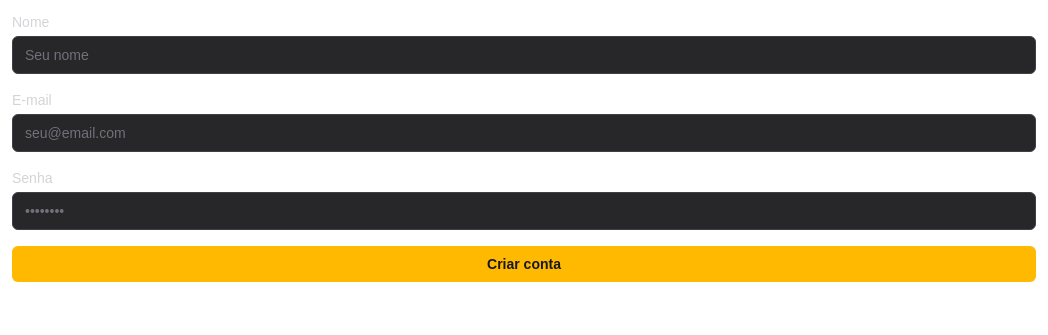
RegisterForm — erros de validação (400) › shows "O campo name é obrigatório" when backend returns 400
In the field labelled "E-mail": (524, 133) top-left (12, 114), bottom-right (1036, 152), type "caio@test.com"
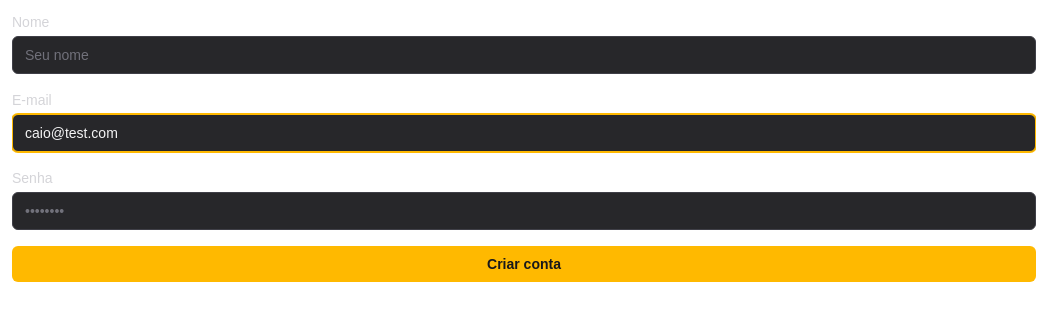
In the password field labelled "Senha": (524, 211) top-left (12, 192), bottom-right (1036, 230), type "secret123"
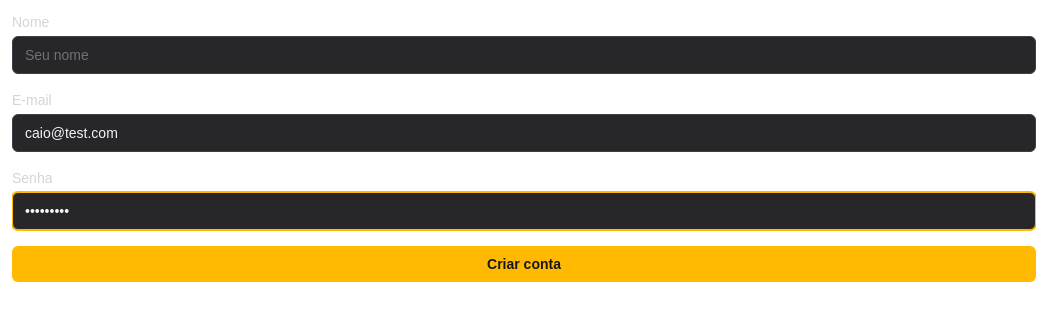
Click the button "Criar conta": click(524, 264) top-left (12, 246), bottom-right (1036, 282)
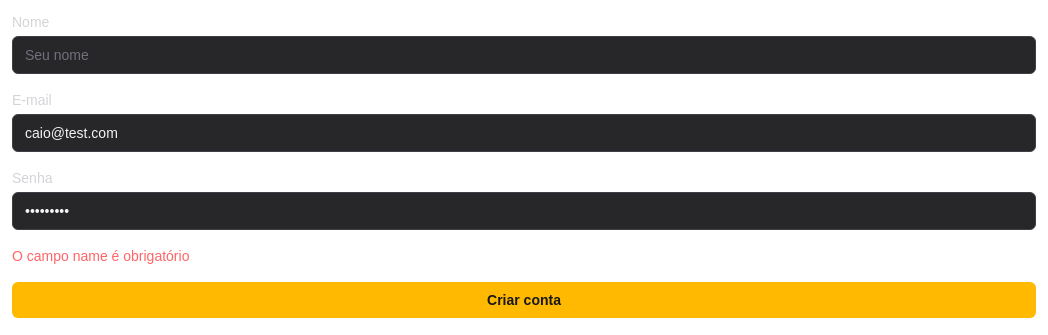
Expected: the message reads "O campo name é obrigatório", top-left (12, 248), bottom-right (189, 264)
